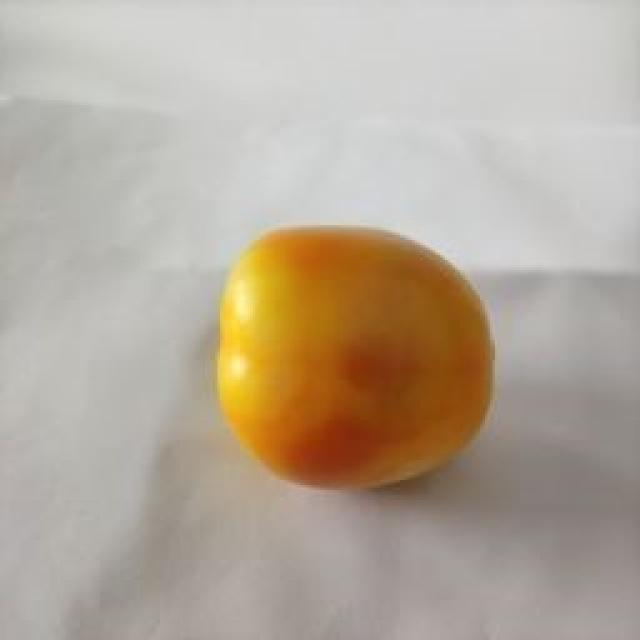unripe: (115, 245, 427, 457)
